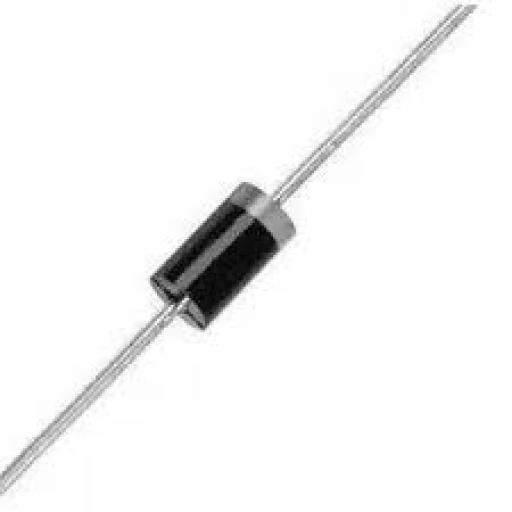DIODE: (0, 0, 478, 498)
